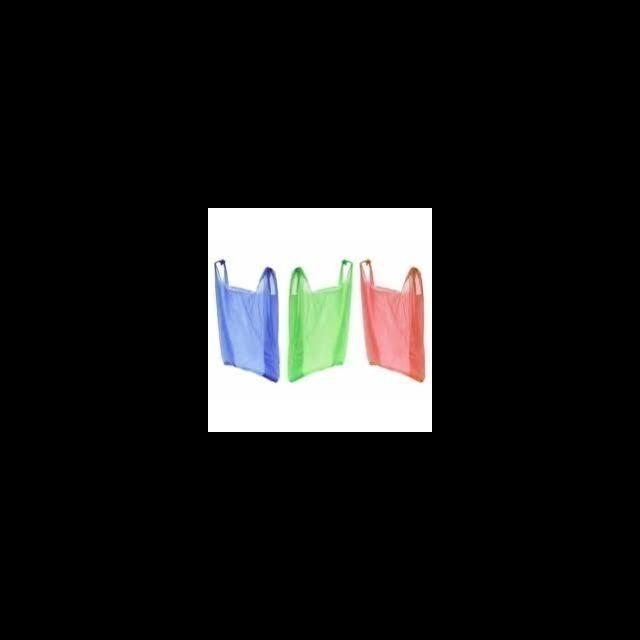plastic: (356, 260, 432, 388), (213, 257, 285, 385), (288, 262, 360, 384)
